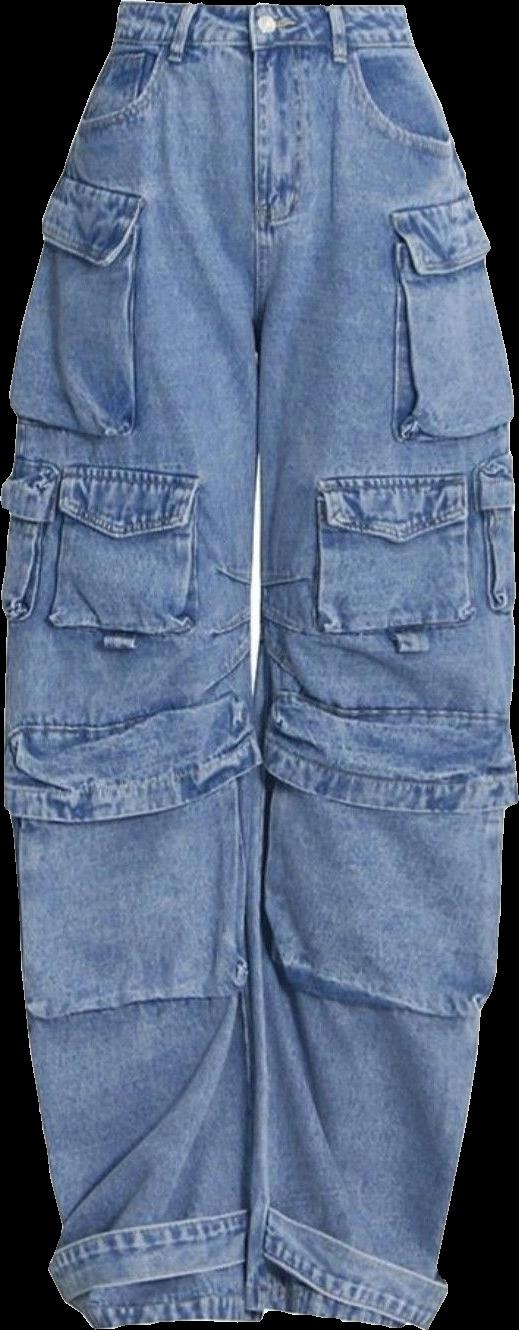Hemline: (260, 1294, 435, 1326), (85, 1303, 259, 1329)
Pantleg: (246, 4, 518, 1327), (0, 0, 266, 1326)
Waistline: (107, 34, 412, 57), (116, 0, 410, 17)
